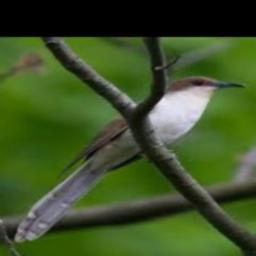Cuckoo: (13, 76, 246, 242)
